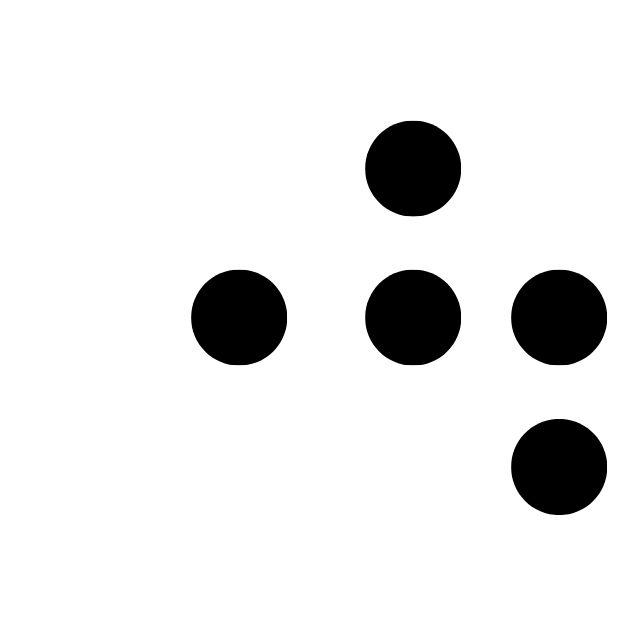dot_5: (47, 122, 289, 518)
tungkol: (365, 118, 607, 515)
